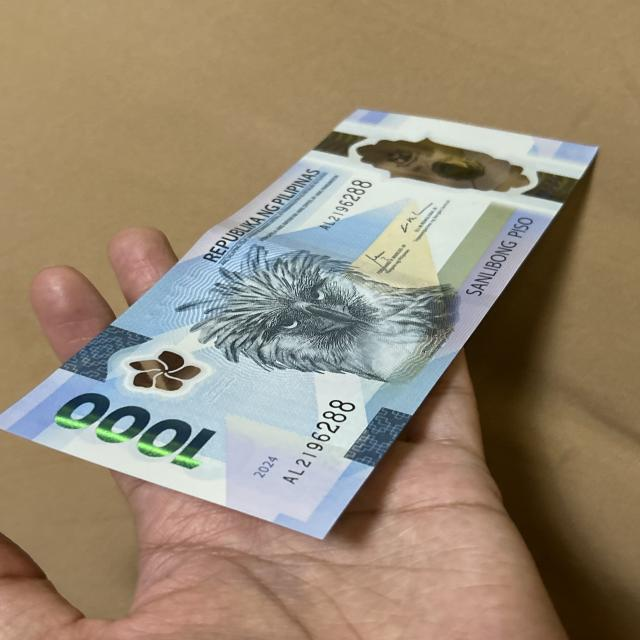clear_window: (348, 130, 550, 200)
eagle: (225, 251, 441, 394)
sampaguita: (125, 345, 200, 395)
